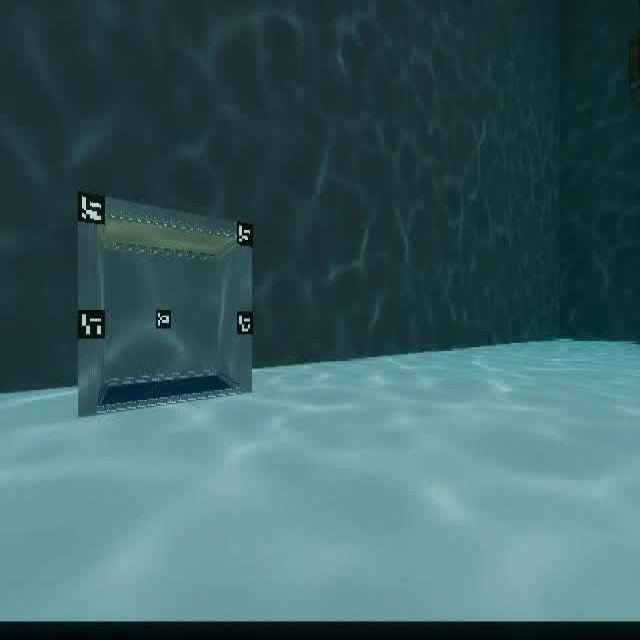Docking Station: (73, 178, 264, 426)
